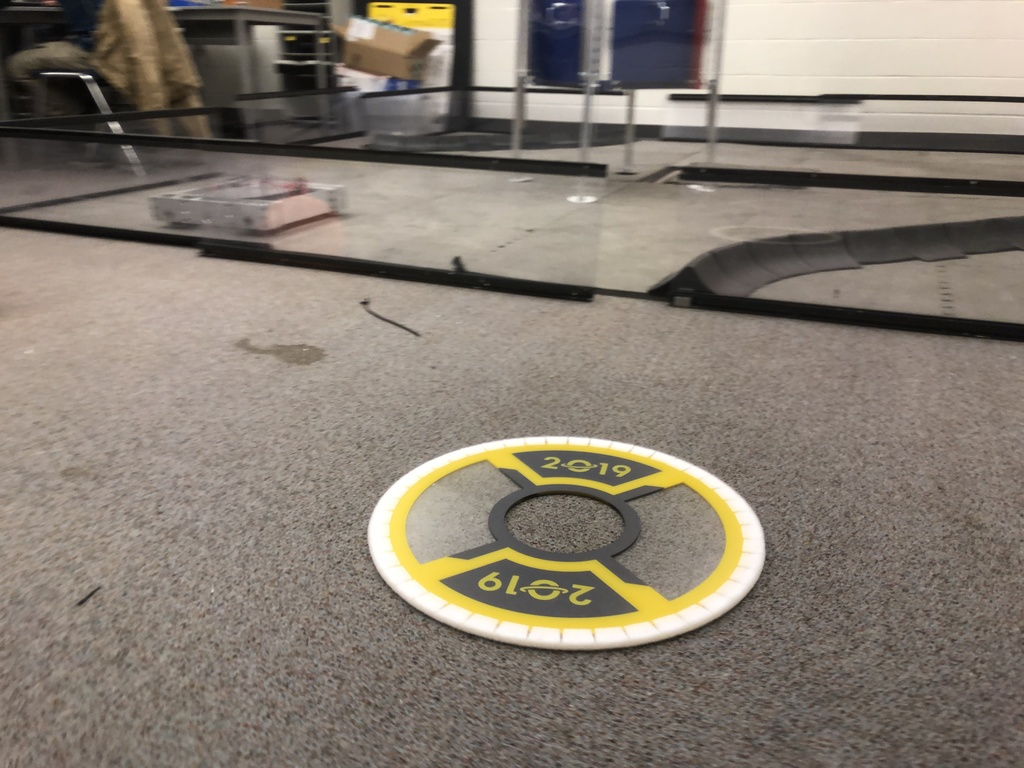hatch_panel: (360, 424, 785, 656)
